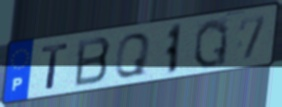1: (165, 21, 185, 77)
7: (237, 14, 266, 61)
B: (72, 35, 113, 89)
Q: (192, 17, 230, 70), (113, 31, 153, 79)
T: (39, 41, 70, 92)
